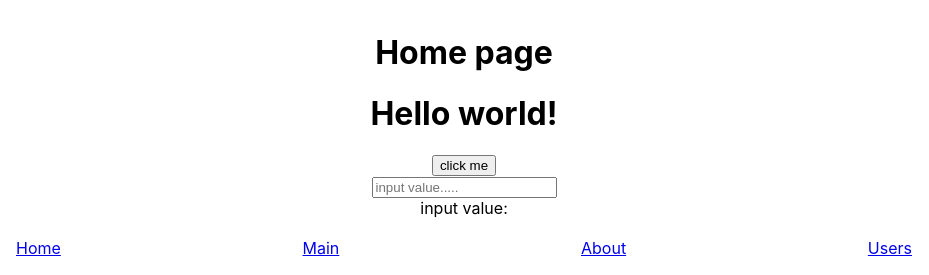
Test case: TEST APP › about test
Click the link with test id "about-link": (604,248) [581,238,626,258]
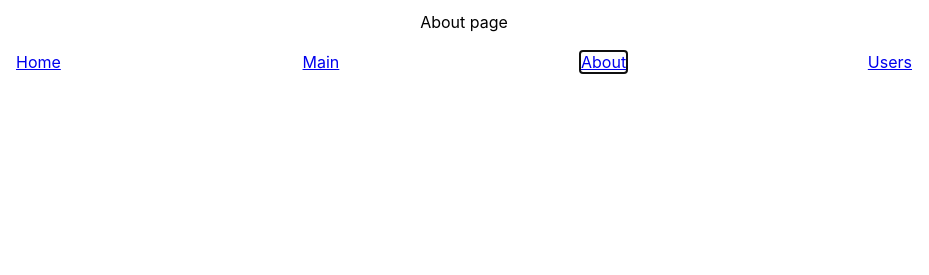
Now the text "About page" is shown, box [420,12,508,32]
